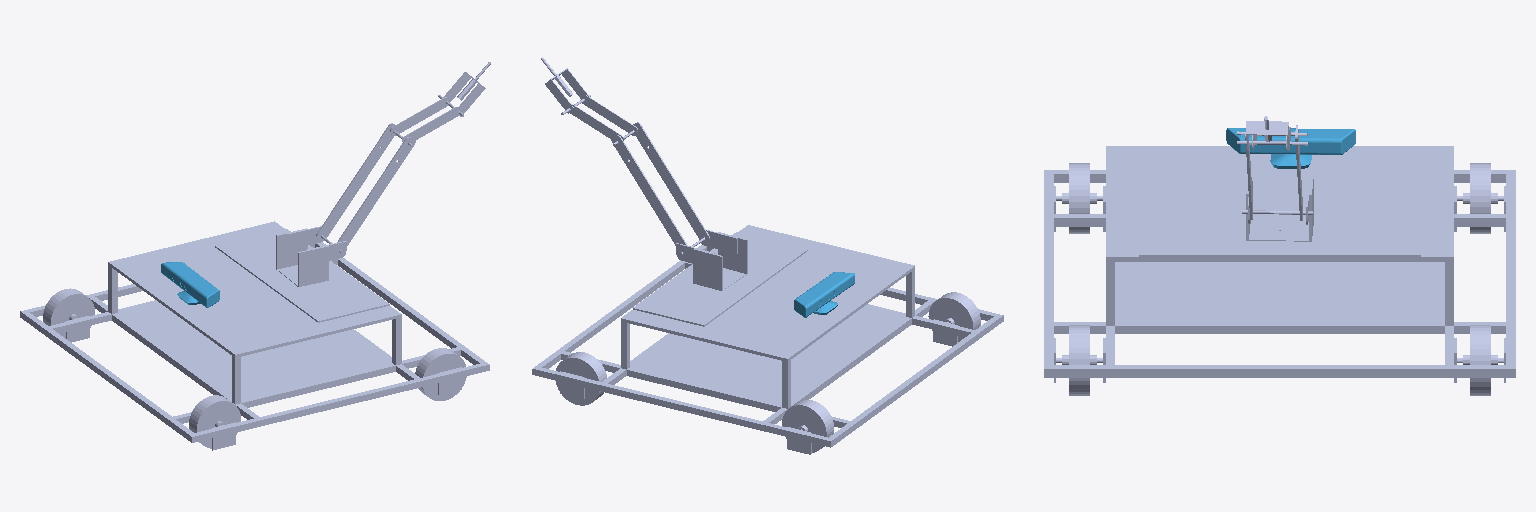
robot.urdf — mob_manip:
<?xml version="1.0" encoding="utf-8" ?>
<!-- This URDF was automatically created by SolidWorks to URDF Exporter! Originally created by [author] ([email redacted]) 
     Commit Version: 1.5.1-0-g916b5db  Build Version: 1.5.7152.31018
     For more information, please see http://wiki.ros.org/sw_urdf_exporter -->
<robot name="mob_manip">
    <link name="base_link">
<!--This is the base link of the mobile manipulator -->        
<inertial>
            <origin xyz="0.513058360875689 -0.117717976987648 0.356205769731144" rpy="0 0 0" />
            <mass value="15.72484623513" />
            <inertia ixx="1.08796670365496" ixy="-0.0136266724932048" ixz="-2.40927967886263E-05" iyy="1.70753131675544" iyz="-3.25212662415233E-06" izz="0.807688361226205" />
        </inertial>

        <visual>
            <origin xyz="0 0 0" rpy="0 0 0" />
            <geometry>
                <mesh filename="package://mob_manip/meshes/base_link.STL" />
            </geometry>
            <material name="">
                <color rgba="0.792156862745098 0.819607843137255 0.933333333333333 1" />
            </material>
        </visual>
        <collision>
            <origin xyz="0 0 0" rpy="0 0 0" />
            <geometry>
                <mesh filename="package://mob_manip/meshes/base_link.STL" />
            </geometry>
        </collision>
    </link>


<!-- Kinect Sensor -->
<link name="kinect">
    <collision>
      <origin xyz="0 0 0" rpy="0 0 0"/>
      <geometry>
        <box size="0.073000 0.276000 0.072000"/>
      </geometry>
    </collision>

    <visual>
      <origin xyz="0 0 0" rpy="0 0 0"/>
      <geometry>
        <mesh filename="package://mob_manip/meshes/kinect.dae" />
      </geometry>
    </visual>

    <inertial>
      <mass value="0.1" />
      <origin xyz="0 0 0" rpy="0 0 0"/>
      <inertia ixx="1e-6" ixy="0" ixz="0" iyy="1e-6" iyz="0" izz="1e-6" />
    </inertial>
    </link>
    <joint name="kinect_joint" type="fixed">
        <origin xyz="0.280 -0.332 0.05" rpy="0 0 3.12" />
        <parent link="base_link" />
        <child link="kinect" />
        <axis xyz="0 1 0" />
    </joint>

    <joint name="cameraLeft_depth_joint" type="fixed">
    <origin xyz="0 0 0" rpy="-1.57 0 -1.57 "/>
    <parent link="kinect"/>
    <child link="cameraLeft_depth_link"/>
    </joint>

    <link name="cameraLeft_depth_link"></link>



<!--w1,w2,w3,w4 are the 4 wheels of mobile base -->
    <link name="w1">
        
<inertial>
            <origin xyz="2.77555756156289E-17 0 -0.0375" rpy="0 0 0" />
            <mass value="0.801459555838926" />
            <inertia ixx="0.0012625171681338" ixy="2.71050543121376E-20" ixz="-1.57178524730168E-21" iyy="0.0012625171681338" iyz="-5.11354914277531E-21" izz="0.00223754179292522" />
        </inertial>

        <visual>
            <origin xyz="0 0 0" rpy="0 0 0" />
            <geometry>
                <mesh filename="package://mob_manip/meshes/w1.STL" />
            </geometry>
            <material name="">
                <color rgba="0.792156862745098 0.819607843137255 0.933333333333333 1" />
            </material>
        </visual>
        <collision>
            <origin xyz="0 0 0" rpy="0 0 0" />
            <geometry>
                <mesh filename="package://mob_manip/meshes/w1.STL" />
            </geometry>
        </collision>
    </link>
    <joint name="l1" type="continuous">
        <origin xyz="0.88574 0.03129 -0.195" rpy="1.5708 -1.2577 0" />
        <parent link="base_link" />
        <child link="w1" />
        <axis xyz="0 0 1" />
    </joint>
    <link name="w2">
        
<inertial>
            <origin xyz="0 0 -0.0375" rpy="0 0 0" />
            <mass value="0.801459555838926" />
            <inertia ixx="0.00126251716813379" ixy="1.35525271560688E-19" ixz="1.51573800403417E-20" iyy="0.0012625171681338" iyz="-8.83569894135245E-21" izz="0.00223754179292522" />
        </inertial>

        <visual>
            <origin xyz="0 0 0" rpy="0 0 0" />
            <geometry>
                <mesh filename="package://mob_manip/meshes/w2.STL" />
            </geometry>
            <material name="">
                <color rgba="0.792156862745098 0.819607843137255 0.933333333333333 1" />
            </material>
        </visual>
        <collision>
            <origin xyz="0 0 0" rpy="0 0 0" />
            <geometry>
                <mesh filename="package://mob_manip/meshes/w2.STL" />
            </geometry>
        </collision>
    </link>
    <joint name="l2" type="continuous">
        <origin xyz="0.12574 0.03129 -0.17" rpy="1.5708 1.1431 0" />
        <parent link="base_link" />
        <child link="w2" />
        <axis xyz="0 0 1" />
    </joint>
    <link name="w3">
        
<inertial>
            <origin xyz="-1.1102E-16 -2.7756E-17 0.0375" rpy="0 0 0" />
            <mass value="0.80146" />
            <inertia ixx="0.0012625" ixy="-2.7105E-20" ixz="1.1975E-21" iyy="0.0012625" iyz="-2.156E-22" izz="0.0022375" />
        </inertial>

        <visual>
            <origin xyz="0 0 0" rpy="0 0 0" />
            <geometry>
                <mesh filename="package://mob_manip/meshes/w3.STL" />
            </geometry>
            <material name="">
                <color rgba="0.79216 0.81961 0.93333 1" />
            </material>
        </visual>
        <collision>
            <origin xyz="0 0 0" rpy="0 0 0" />
            <geometry>
                <mesh filename="package://mob_manip/meshes/w3.STL" />
            </geometry>
        </collision>
    </link>
    <joint name="r1" type="continuous">
        <origin xyz="0.88574 -0.74371 -0.195" rpy="1.5708 0.18318 0" />
        <parent link="base_link" />
        <child link="w3" />
        <axis xyz="0 0 1" />
    </joint>
    <link name="w4">
        
<inertial>
            <origin xyz="0 0 0.0375" rpy="0 0 0" />
            <mass value="0.801459555838927" />
            <inertia ixx="0.0012625171681338" ixy="-5.9292306307801E-21" ixz="3.43751316972066E-21" iyy="0.0012625171681338" iyz="-3.3244993051953E-22" izz="0.00223754179292522" />
        </inertial>

        <visual>
            <origin xyz="0 0 0" rpy="0 0 0" />
            <geometry>
                <mesh filename="package://mob_manip/meshes/w4.STL" />
            </geometry>
            <material name="">
                <color rgba="0.792156862745098 0.819607843137255 0.933333333333333 1" />
            </material>
        </visual>
        <collision>
            <origin xyz="0 0 0" rpy="0 0 0" />
            <geometry>
                <mesh filename="package://mob_manip/meshes/w4.STL" />
            </geometry>
        </collision>
    </link>
    <joint name="r2" type="continuous">
        <origin xyz="0.12574 -0.74371 -0.17" rpy="1.5708 -0.011372 0" />
        <parent link="base_link" />
        <child link="w4" />
        <axis xyz="0 0 1" />
    </joint>
<!-- Link1,Link2,Link3,Link4 are the links of manipulator and Link5 is the end-effector(screw dricer) -->
    <link name="Link1">
        
<inertial>
            <origin xyz="1.11022302462516E-16 0.05747068219005 -0.0129024755809186" rpy="0 0 0" />
            <mass value="0.221199667920846" />
            <inertia ixx="0.000587681659431752" ixy="-1.21972744404619E-19" ixz="-1.79740391407363E-18" iyy="0.00117861748383056" iyz="8.04398901867666E-05" izz="0.00114651902699794" />
        </inertial>

        <visual>
            <origin xyz="0 0 0" rpy="0 0 0" />
            <geometry>
                <mesh filename="package://mob_manip/meshes/Link1.STL" />
            </geometry>
            <material name="">
                <color rgba="0.792156862745098 0.819607843137255 0.933333333333333 1" />
            </material>
        </visual>
        <collision>
            <origin xyz="0 0 0" rpy="0 0 0" />
            <geometry>
                <mesh filename="package://mob_manip/meshes/Link1.STL" />
            </geometry>
        </collision>
    </link>
    <joint name="j1" type="continuous">
        <origin xyz="0.66574 -0.35621 0.005" rpy="1.5708 0 -1.6133" />
        <parent link="base_link" />
        <child link="Link1" />
        <axis xyz="0 1 0" />
    </joint>
    <link name="Link2">
        
<inertial>
            <origin xyz="0.0034038 0.005382 -0.18905" rpy="0 0 0" />
            <mass value="0.15671" />
            <inertia ixx="0.0023831" ixy="-4.1188E-08" ixz="1.4468E-06" iyy="0.0027923" iyz="6.6915E-05" izz="0.00044373" />
        </inertial>

        <visual>
            <origin xyz="0 0 0" rpy="0 0 0" />
            <geometry>
                <mesh filename="package://mob_manip/meshes/Link2.STL" />
            </geometry>
            <material name="">
                <color rgba="0.79216 0.81961 0.93333 1" />
            </material>
        </visual>
        <collision>
            <origin xyz="0 0 0" rpy="0 0 0" />
            <geometry>
                <mesh filename="package://mob_manip/meshes/Link2.STL" />
            </geometry>
        </collision>
    </link>
    <joint name="j2" type="revolute">
        <origin xyz="0 0.085 -0.088586" rpy="0.87206 0 0" />
        <parent link="Link1" />
        <child link="Link2" />
        <axis xyz="1 0 0" />
        <limit lower="-1.5708" upper="1.5708" effort="50" velocity="100" />
    </joint>
    <link name="Link3">
        
<inertial>
            <origin xyz="-9.26428305997318E-05 0.000750789555956623 -0.104832677638645" rpy="0 0 0" />
            <mass value="0.0436215921712802" />
            <inertia ixx="0.000169717854371362" ixy="-3.57847474225765E-08" ixz="-3.62157682604577E-06" iyy="0.000229282201716468" iyz="-5.19226647774999E-07" izz="6.54024268733061E-05" />
        </inertial>

        <visual>
            <origin xyz="0 0 0" rpy="0 0 0" />
            <geometry>
                <mesh filename="package://mob_manip/meshes/Link3.STL" />
            </geometry>
            <material name="">
                <color rgba="0.792156862745098 0.819607843137255 0.933333333333333 1" />
            </material>
        </visual>
        <collision>
            <origin xyz="0 0 0" rpy="0 0 0" />
            <geometry>
                <mesh filename="package://mob_manip/meshes/Link3.STL" />
            </geometry>
        </collision>
    </link>
    <joint name="j3" type="revolute">
        <origin xyz="0 0.010603 -0.37242" rpy="-0.54206 0 0" />
        <parent link="Link2" />
        <child link="Link3" />
        <axis xyz="1 0 0" />
        <limit lower="-1.5708" upper="1.5708" effort="50" velocity="100" />
    </joint>
    <link name="Link4">
        
<inertial>
            <origin xyz="1.1102E-16 0.06315 0.003" rpy="0 0 0" />
            <mass value="0.026823" />
            <inertia ixx="7.5437E-05" ixy="-3.3408E-20" ixz="-1.8127E-19" iyy="4.3404E-05" iyz="-2.8386E-19" izz="3.6133E-05" />
        </inertial>

        <visual>
            <origin xyz="0 0 0" rpy="0 0 0" />
            <geometry>
                <mesh filename="package://mob_manip/meshes/Link4.STL" />
            </geometry>
            <material name="">
                <color rgba="0.79216 0.81961 0.93333 1" />
            </material>
        </visual>
        <collision>
            <origin xyz="0 0 0" rpy="0 0 0" />
            <geometry>
                <mesh filename="package://mob_manip/meshes/Link4.STL" />
            </geometry>
        </collision>
    </link>
    <joint name="j4" type="revolute">
        <origin xyz="0 0 -0.18082" rpy="-1.5708 0.42088 -1.5708" />
        <parent link="Link3" />
        <child link="Link4" />
        <axis xyz="0 0 1" />
        <limit lower="-1.5708" upper="1.5708" effort="50" velocity="100" />
    </joint>
    <link name="Link5">
        
<inertial>
            <origin xyz="0.0010625 0.070653 0.0028055" rpy="0 0 0" />
            <mass value="0.018749" />
            <inertia ixx="2.3868E-05" ixy="-1.3939E-19" ixz="-2.5411E-21" iyy="5.2544E-07" iyz="1.1092E-20" izz="2.3868E-05" />
        </inertial>

        <visual>
            <origin xyz="0 0 0" rpy="0 0 0" />
            <geometry>
                <mesh filename="package://mob_manip/meshes/Link5.STL" />
            </geometry>
            <material name="">
                <color rgba="0.79216 0.81961 0.93333 1" />
            </material>
        </visual>
        <collision>
            <origin xyz="0 0 0" rpy="0 0 0" />
            <geometry>
                <mesh filename="package://mob_manip/meshes/Link5.STL" />
            </geometry>
        </collision>
    </link>
    <joint name="j5" type="revolute">
        <origin xyz="0 0.01 0" rpy="0 -0.36203 0" />
        <parent link="Link4" />
        <child link="Link5" />
        <axis xyz="0 1 0" />
        <limit lower="-1.5708" upper="1.5708" effort="50" velocity="100" />
    </joint>
    
<transmission name="trans_l1">
        <type>transmission_interface/SimpleTransmission</type>
        <joint name="l1">
            <hardwareInterface>hardware_interface/EffortJointInterface</hardwareInterface>
        </joint>
        <actuator name="l1_motor">
            <hardwareInterface>hardware_interface/EffortJointInterface</hardwareInterface>
            <mechanicalReduction>1</mechanicalReduction>
        </actuator>
    </transmission>
    <transmission name="trans_l2">
        <type>transmission_interface/SimpleTransmission</type>
        <joint name="l2">
            <hardwareInterface>hardware_interface/EffortJointInterface</hardwareInterface>
        </joint>
        <actuator name="l2_motor">
            <hardwareInterface>hardware_interface/EffortJointInterface</hardwareInterface>
            <mechanicalReduction>1</mechanicalReduction>
        </actuator>
    </transmission>
    <transmission name="trans_r1">
        <type>transmission_interface/SimpleTransmission</type>
        <joint name="r1">
            <hardwareInterface>hardware_interface/EffortJointInterface</hardwareInterface>
        </joint>
        <actuator name="r1_motor">
            <hardwareInterface>hardware_interface/EffortJointInterface</hardwareInterface>
            <mechanicalReduction>1</mechanicalReduction>
        </actuator>
    </transmission>
    <transmission name="trans_r2">
        <type>transmission_interface/SimpleTransmission</type>
        <joint name="r2">
            <hardwareInterface>hardware_interface/EffortJointInterface</hardwareInterface>
        </joint>
        <actuator name="r2_motor">
            <hardwareInterface>hardware_interface/EffortJointInterface</hardwareInterface>
            <mechanicalReduction>1</mechanicalReduction>
        </actuator>
    </transmission>
    <transmission name="trans_j1">
        <type>transmission_interface/SimpleTransmission</type>
        <joint name="j1">
            <hardwareInterface>hardware_interface/PositionJointInterface</hardwareInterface>
        </joint>
        <actuator name="j1_motor">
            <hardwareInterface>hardware_interface/PositionJointInterface</hardwareInterface>
            <mechanicalReduction>1</mechanicalReduction>
        </actuator>
    </transmission>
    <transmission name="trans_j2">
        <type>transmission_interface/SimpleTransmission</type>
        <joint name="j2">
            <hardwareInterface>hardware_interface/PositionJointInterface</hardwareInterface>
        </joint>
        <actuator name="j2_motor">
            <hardwareInterface>hardware_interface/PositionJointInterface</hardwareInterface>
            <mechanicalReduction>1</mechanicalReduction>
        </actuator>
    </transmission>
    <transmission name="trans_j3">
        <type>transmission_interface/SimpleTransmission</type>
        <joint name="j3">
            <hardwareInterface>hardware_interface/PositionJointInterface</hardwareInterface>
        </joint>
        <actuator name="j3_motor">
            <hardwareInterface>hardware_interface/PositionJointInterface</hardwareInterface>
            <mechanicalReduction>1</mechanicalReduction>
        </actuator>
    </transmission>
    <transmission name="trans_j4">
        <type>transmission_interface/SimpleTransmission</type>
        <joint name="j4">
            <hardwareInterface>hardware_interface/PositionJointInterface</hardwareInterface>
        </joint>
        <actuator name="j4_motor">
            <hardwareInterface>hardware_interface/PositionJointInterface</hardwareInterface>
            <mechanicalReduction>1</mechanicalReduction>
        </actuator>
    </transmission>
    <transmission name="trans_j5">
        <type>transmission_interface/SimpleTransmission</type>
        <joint name="j5">
            <hardwareInterface>hardware_interface/EffortJointInterface</hardwareInterface>
        </joint>
        <actuator name="j5_motor">
            <hardwareInterface>hardware_interface/EffortJointInterface</hardwareInterface>
            <mechanicalReduction>1</mechanicalReduction>
        </actuator>
    </transmission>
    <gazebo>
        <plugin name="gazebo_ros_control" filename="libgazebo_ros_control.so">
            <robotNamespace>/</robotNamespace>
	    <legacyModeNS>true</legacyModeNS>
        </plugin>
    </gazebo>
    <gazebo>
	<plugin name="differential_drive_controller" filename="libgazebo_ros_diff_drive.so">
 	   <alwaysOn>true</alwaysOn>
 	   <updateRate>20</updateRate>
 	   <leftJoint>l1</leftJoint>
 	   <rightJoint>r1</rightJoint>
 	   <wheelSeparation>0.4</wheelSeparation>
 	   <wheelDiameter>0.1</wheelDiameter>
 	   <torque>20</torque>
 	   <commandTopic>cmd_vel</commandTopic>
 	   <odometryTopic>odom</odometryTopic>
 	   <odometryFrame>odom</odometryFrame>
 	   <robotBaseFrame>base_link</robotBaseFrame>
 </plugin>
    </gazebo>
    <!-- Kinect sensor plugin -->
    <gazebo reference="kinect">
    <sensor type="depth" name="camera">
      <always_on>1</always_on>
      <visualize>true</visualize>
      <camera>
        <horizontal_fov>1.047</horizontal_fov>
        <image>
          <width>640</width>
          <height>480</height>
          <format>R8G8B8</format>
        </image>
        <depth_camera>

        </depth_camera>
        <clip>
          <near>0.1</near>
          <far>100</far>
        </clip>
      </camera>
      <plugin name="kinect" filename="libgazebo_ros_openni_kinect.so">
          <baseline>0.2</baseline>
          <alwaysOn>true</alwaysOn>
          <!-- Keep this zero, update_rate in the parent <sensor> tag
            will control the frame rate. -->
          <updateRate>0.0</updateRate>
          <cameraName>camera_ir</cameraName>
          <imageTopicName>/camera/color/image_raw</imageTopicName>
          <cameraInfoTopicName>/camera/color/camera_info</cameraInfoTopicName>
          <depthImageTopicName>/camera/depth/image_raw</depthImageTopicName>
          <depthImageCameraInfoTopicName>/camera/depth/camera_info</depthImageCameraInfoTopicName>
          <pointCloudTopicName>/camera/depth/points</pointCloudTopicName>
          <frameName>cameraLeft_depth_link</frameName>
          <pointCloudCutoff>0.5</pointCloudCutoff>
          <pointCloudCutoffMax>3.0</pointCloudCutoffMax>
          <distortionK1>0</distortionK1>
          <distortionK2>0</distortionK2>
          <distortionK3>0</distortionK3>
          <distortionT1>0</distortionT1>
          <distortionT2>0</distortionT2>
          <CxPrime>0</CxPrime>
          <Cx>0</Cx>
          <Cy>0</Cy>
          <focalLength>0</focalLength>
          <hackBaseline>0</hackBaseline>
      </plugin>
    </sensor>
  </gazebo>
</robot>

--- What the picture shows (computed from the rendered views, not written in the file) ---
Views: 3 orthographic renders of the robot side by side, from view 1: azimuth 30°, elevation 25°; view 2: azimuth 150°, elevation 25°; view 3: azimuth 270°, elevation 25°.
Robot: mob_manip — 12 links, 11 joints (4 revolute, 5 continuous, 2 fixed); root link base_link; default pose: every joint at zero.
Links seen in each view (by area): view 1: base_link, Link2, Link1, kinect, w4, w2, w3, Link3, Link4; view 2: base_link, Link2, Link1, kinect, w2, w4, w1, Link3, Link4; view 3: base_link, kinect, Link1, w2, w4, w1, w3, Link2, Link4.
Link boxes in pixels (left/top/right/bottom): base_link: left=20, top=221, right=489, bottom=450; Link2: left=316, top=123, right=415, bottom=253; Link1: left=276, top=226, right=346, bottom=286; kinect: left=161, top=262, right=219, bottom=307; w4: left=189, top=395, right=240, bottom=448; w2: left=43, top=288, right=94, bottom=338; w3: left=415, top=348, right=466, bottom=400; Link3: left=390, top=95, right=463, bottom=141; Link4: left=443, top=72, right=485, bottom=116; base_link: left=532, top=225, right=1003, bottom=454; Link2: left=611, top=122, right=709, bottom=254; Link1: left=676, top=230, right=747, bottom=290; kinect: left=794, top=272, right=854, bottom=317; w2: left=782, top=400, right=833, bottom=452; w4: left=928, top=292, right=980, bottom=341; w1: left=556, top=352, right=606, bottom=405; Link3: left=561, top=95, right=637, bottom=140; Link4: left=545, top=68, right=590, bottom=113; base_link: left=1044, top=146, right=1515, bottom=382; kinect: left=1226, top=128, right=1355, bottom=168; Link1: left=1246, top=175, right=1313, bottom=241; w2: left=1463, top=163, right=1497, bottom=233; w4: left=1062, top=163, right=1096, bottom=233; w1: left=1463, top=325, right=1497, bottom=395; w3: left=1062, top=325, right=1096, bottom=395; Link2: left=1237, top=125, right=1312, bottom=220; Link4: left=1246, top=121, right=1289, bottom=150.
Size in the robot's own frame: 1.28 by 1 by 0.8297 metres.
Meshes: 11 distinct files referenced, 11 mesh visuals loaded (10 binary STL, 1 Collada DAE).